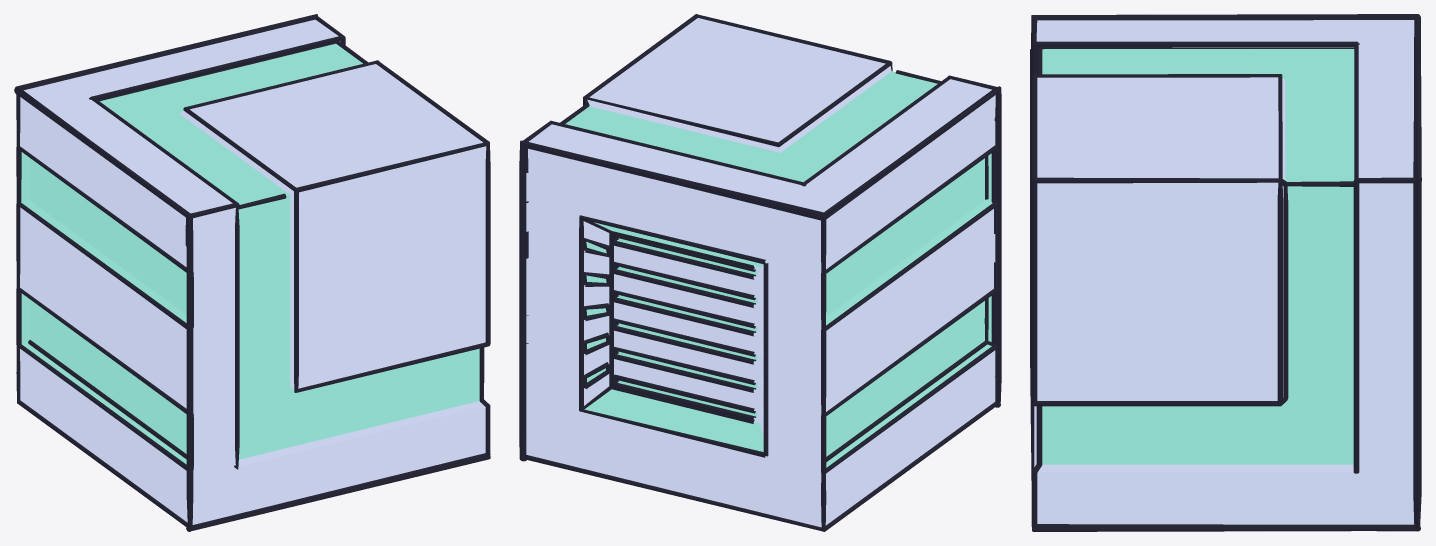
The picture shows the model from 3 angles, left to right: view 1: azimuth 30°, elevation 25°; view 2: azimuth 150°, elevation 25°; view 3: azimuth 270°, elevation 25°; orthographic projection. The views are drawn at different scales.
Visible parts, largest first — view 1: Cube, LineArt, LineArt.001; view 2: Cube, LineArt.001, LineArt; view 3: Cube, LineArt, LineArt.001.
Boxes of the visible parts, left/top/right/bottom form: Cube: left=20, top=19, right=486, bottom=524; LineArt: left=18, top=15, right=490, bottom=527; LineArt.001: left=14, top=14, right=490, bottom=531; Cube: left=526, top=18, right=995, bottom=527; LineArt.001: left=519, top=86, right=1001, bottom=531; LineArt: left=523, top=14, right=997, bottom=455; Cube: left=1034, top=20, right=1414, bottom=524; LineArt: left=1031, top=16, right=1416, bottom=528; LineArt.001: left=1030, top=14, right=1421, bottom=531.
Bounding box in the file's own units: 20.52 × 20.56 × 20.52.
